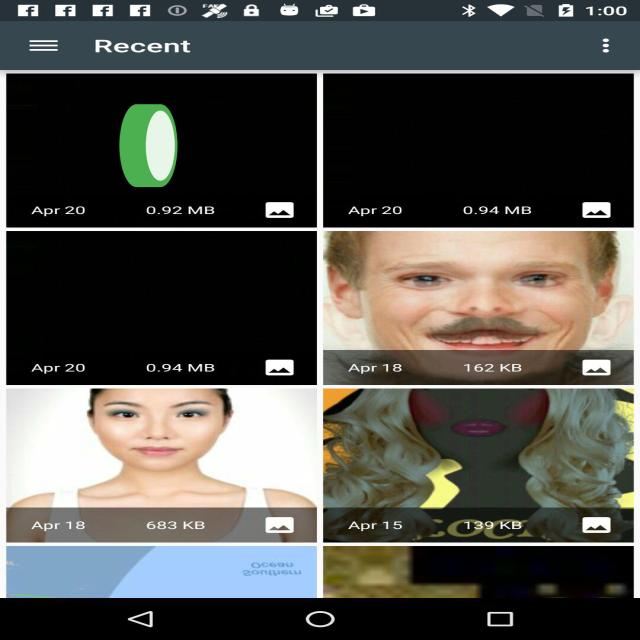social proof: (117, 72, 180, 226)
